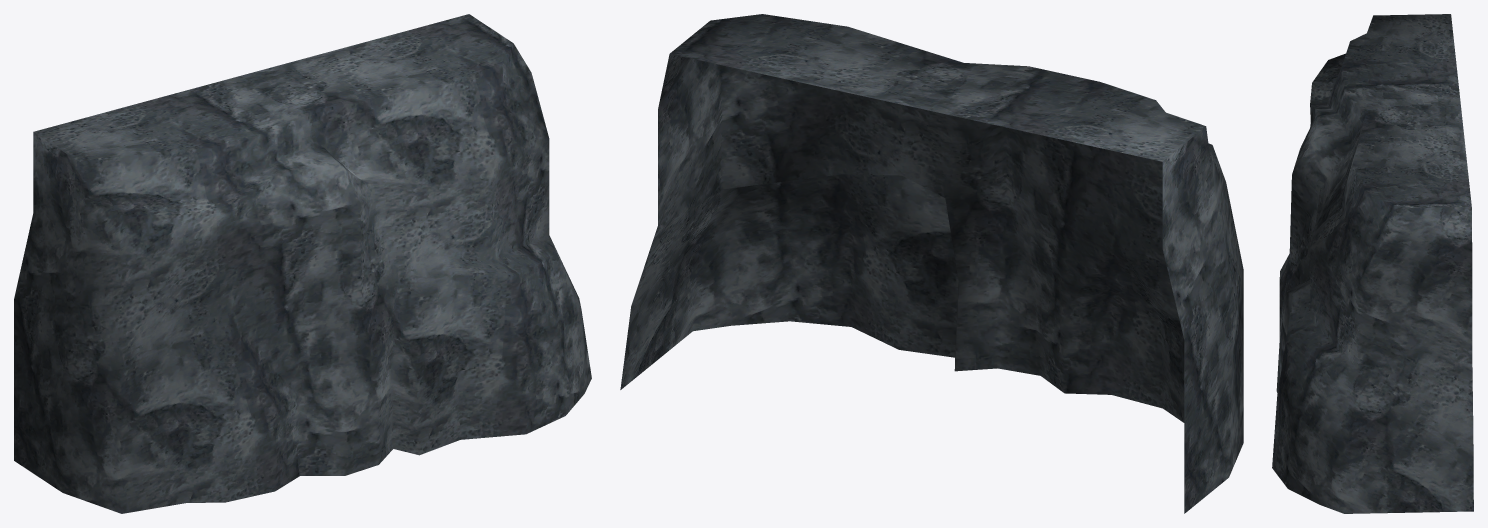
Rendered from environment_stone_shanti_004_a.FBX.
3 views of the same model, side by side, from view 1: azimuth 30°, elevation 25°; view 2: azimuth 150°, elevation 25°; view 3: azimuth 270°, elevation 25° (orthographic). The views are drawn at different scales.
Visible parts, largest first — view 1: environment_stone_shanti_004_a; view 2: environment_stone_shanti_004_a; view 3: environment_stone_shanti_004_a.
Part boxes in pixels (left/top/right/bottom): environment_stone_shanti_004_a: left=14, top=14, right=591, bottom=513; environment_stone_shanti_004_a: left=620, top=14, right=1243, bottom=513; environment_stone_shanti_004_a: left=1272, top=14, right=1473, bottom=513.
Bounding box in the file's own units: 766 × 457 × 293.
Materials: 1 (1 with a texture image).
